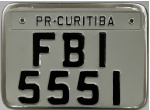placa: (38, 43, 112, 93)
